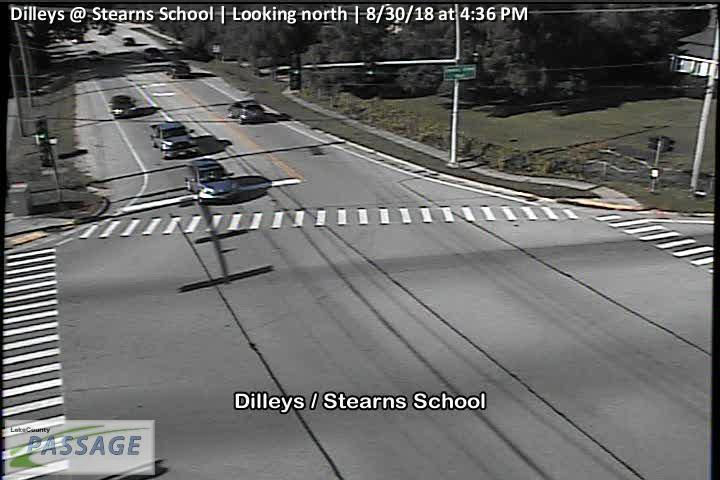SUV: (184, 158, 241, 205), (166, 60, 191, 79)
Sedan: (226, 100, 265, 124), (109, 95, 137, 117), (161, 47, 183, 59), (143, 48, 163, 61), (122, 36, 136, 47)
Truck: (150, 120, 200, 161)
